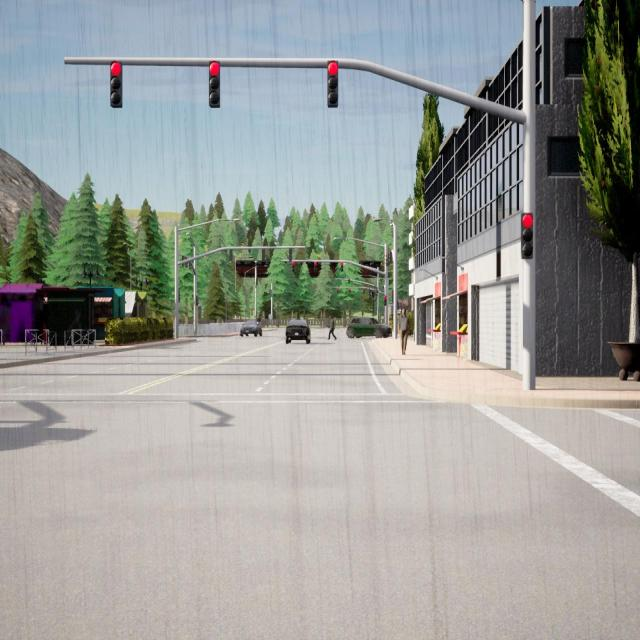Pedestrian: (398, 309, 409, 355), (327, 316, 337, 339)
Traffic_Signs: (269, 314, 272, 319)
Vehicle: (347, 316, 392, 339), (286, 319, 310, 344), (240, 320, 262, 337)
traffic_light: (110, 62, 122, 107), (521, 213, 533, 258), (327, 61, 338, 108), (210, 61, 220, 107), (289, 248, 292, 261), (262, 249, 265, 261), (185, 257, 188, 268), (178, 288, 180, 303), (292, 262, 295, 272), (314, 262, 317, 271), (384, 296, 387, 305), (230, 249, 232, 261), (392, 290, 394, 302), (388, 253, 390, 265), (182, 256, 184, 267), (390, 252, 392, 263), (196, 296, 198, 306), (386, 256, 388, 266), (341, 262, 343, 270), (190, 261, 192, 269), (337, 288, 339, 294), (349, 288, 351, 294), (363, 288, 365, 294), (270, 289, 272, 295), (256, 278, 258, 284), (348, 279, 350, 284)
